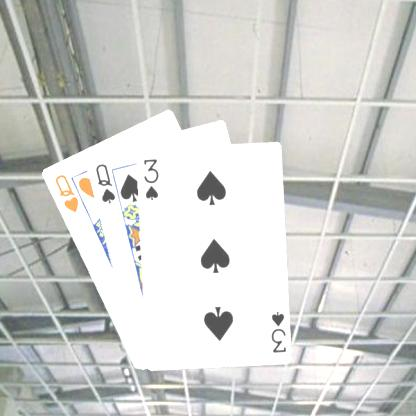3S: (140, 155, 160, 202), (268, 308, 287, 354)
QH: (52, 171, 80, 214)
QS: (92, 160, 116, 206)
